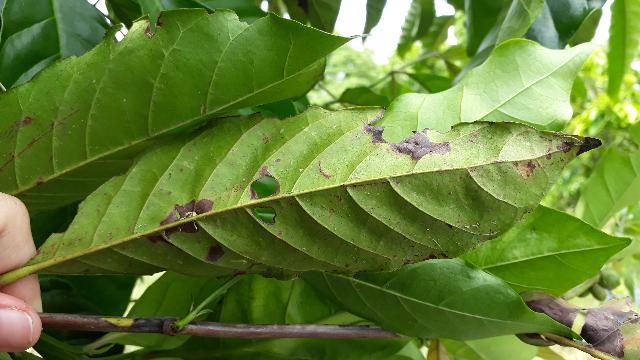rust_level_1: (28, 110, 604, 280)
